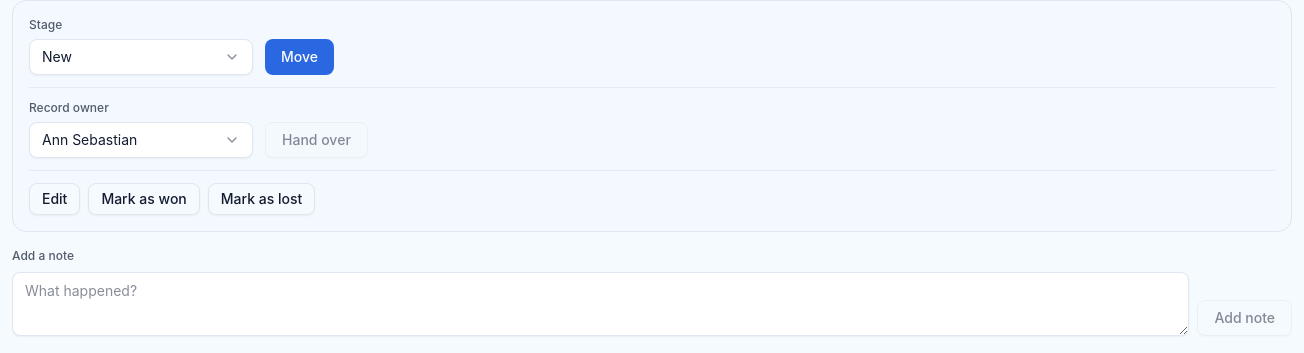
a form reset cannot strand the picker › keeps showing the chosen stage after the form is reset
Step 1. Click the dropdown named "Stage" → (141, 57), box [29,39,253,75]
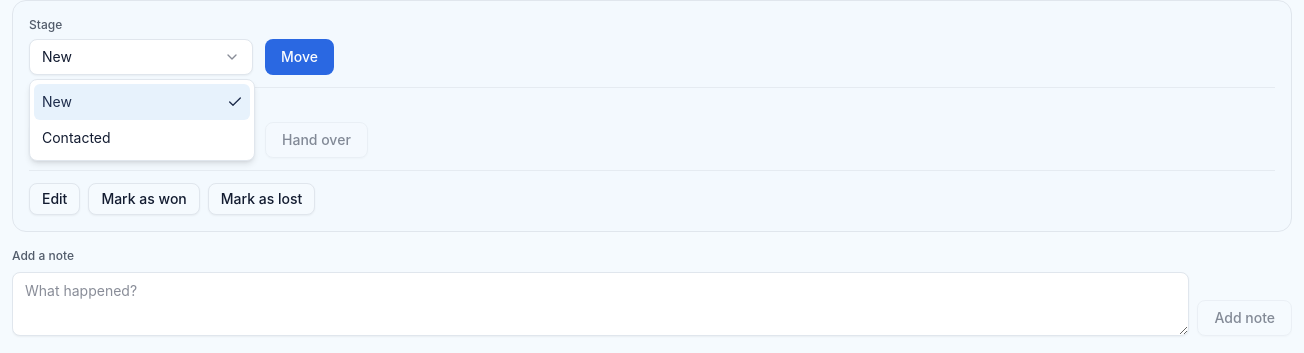
Step 2. Click the option "Contacted" → (76, 138), box [42,129,111,146]
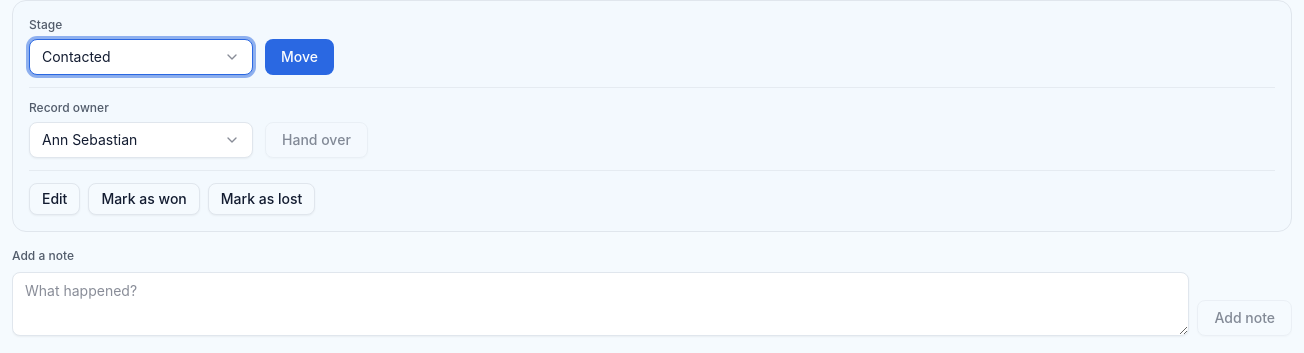
Expected: the form "Move" is shown, [265,39,334,75]
Expected: the dropdown named "Stage" reads "Contacted", [29,39,253,75]
